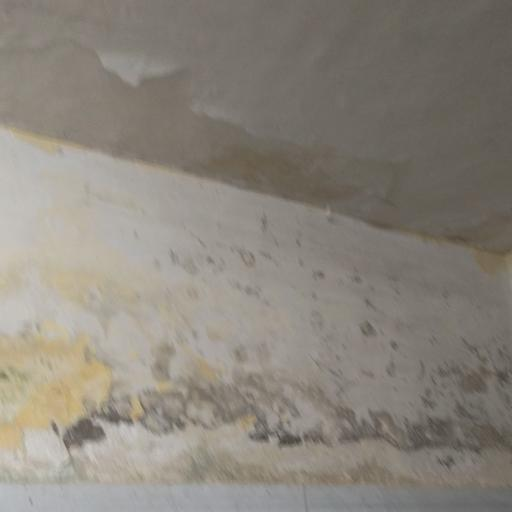peeling: (4, 18, 512, 512)
